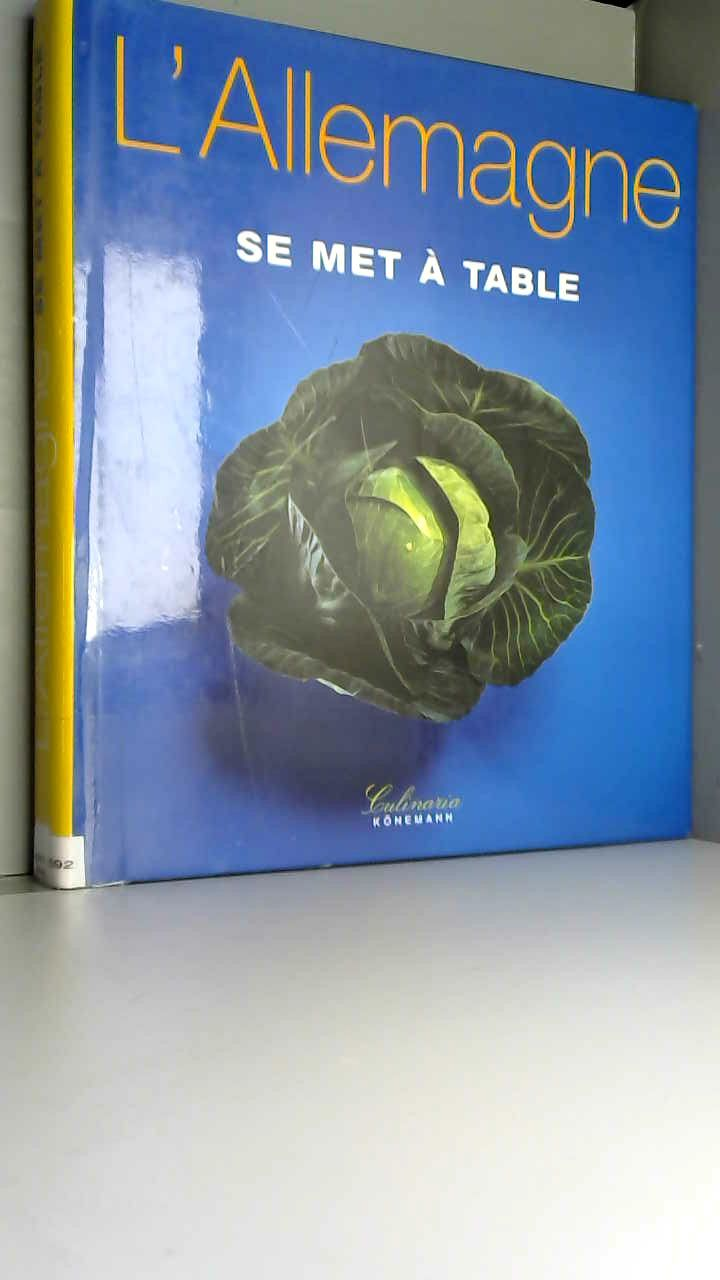book: (0, 0, 720, 913)
